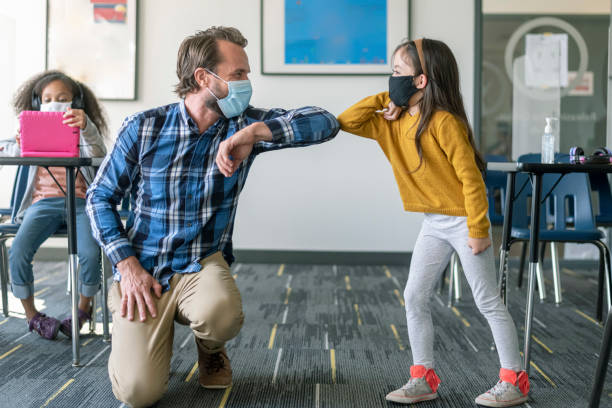with mask: (170, 37, 255, 120), (23, 64, 88, 126), (381, 45, 428, 109)
